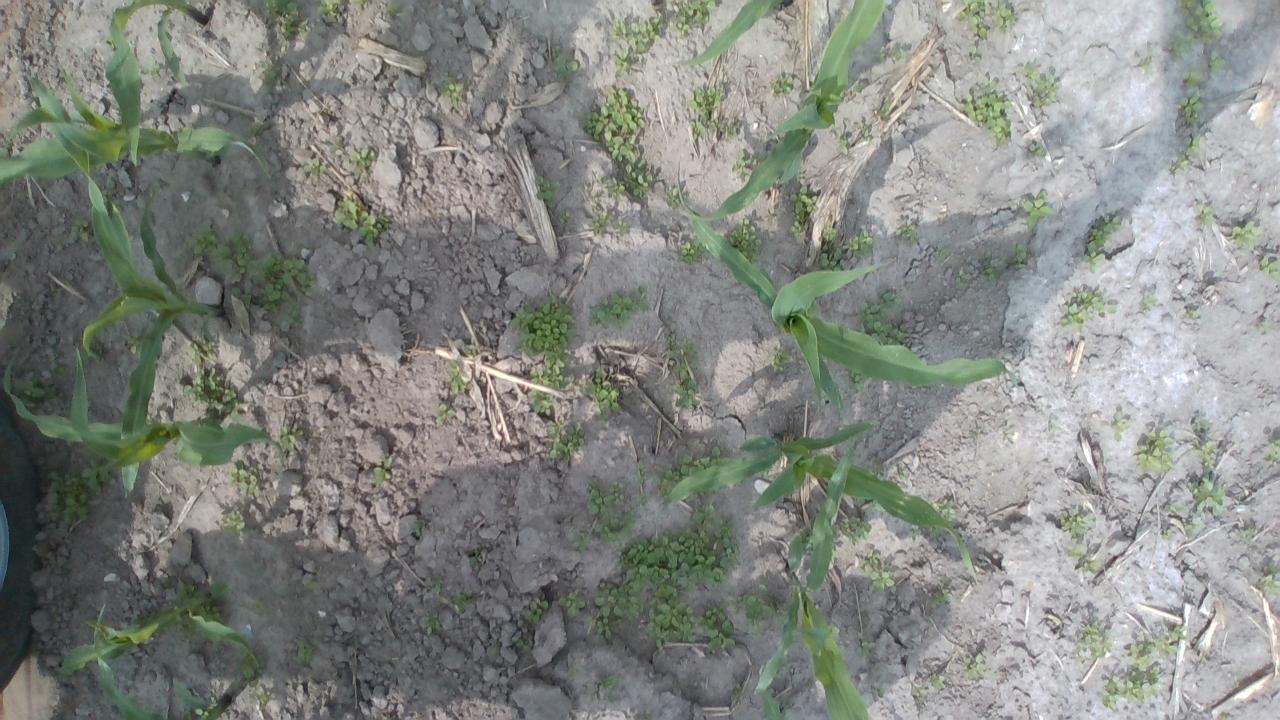Maize: (674, 162, 1016, 420), (28, 72, 226, 506), (666, 416, 974, 582), (684, 0, 891, 225), (0, 347, 292, 476), (752, 443, 872, 720), (0, 68, 274, 182), (60, 590, 262, 680), (105, 0, 208, 168), (94, 651, 250, 720), (672, 0, 792, 68), (758, 684, 786, 720)
Weeds: (183, 217, 317, 336), (617, 500, 741, 594), (510, 292, 576, 369), (41, 457, 112, 523), (8, 354, 70, 417), (576, 86, 648, 139), (611, 13, 666, 82), (585, 579, 644, 642), (960, 77, 1011, 146), (584, 478, 636, 542), (330, 198, 392, 250), (645, 596, 702, 652), (599, 139, 653, 197), (662, 335, 702, 408), (728, 584, 786, 634), (1078, 212, 1122, 274), (588, 286, 648, 331), (1104, 664, 1160, 712), (182, 369, 238, 416), (818, 225, 874, 271), (1122, 626, 1184, 664), (526, 368, 574, 416), (1059, 288, 1113, 330), (577, 368, 622, 416), (1177, 0, 1223, 45), (1135, 429, 1178, 474), (687, 84, 721, 140), (544, 419, 588, 462), (669, 0, 718, 38), (702, 600, 736, 652), (727, 219, 763, 266), (184, 316, 218, 364), (1021, 65, 1058, 107), (262, 0, 306, 35), (954, 0, 992, 40), (860, 550, 895, 592), (1189, 476, 1227, 514), (224, 461, 264, 496), (856, 300, 888, 341), (1056, 504, 1092, 538), (784, 185, 818, 221), (1076, 624, 1110, 656), (872, 320, 908, 350), (650, 464, 680, 499), (1022, 191, 1051, 227), (551, 44, 579, 80), (841, 514, 872, 546), (1229, 218, 1262, 248), (534, 174, 562, 206), (676, 238, 708, 266), (1192, 438, 1218, 472), (1166, 29, 1195, 59), (163, 614, 194, 642), (1176, 94, 1204, 125), (592, 211, 626, 236), (217, 509, 246, 538), (990, 0, 1016, 32), (522, 595, 548, 627), (445, 360, 467, 396), (558, 590, 586, 618), (769, 344, 795, 374), (678, 452, 710, 476), (601, 674, 626, 704), (275, 425, 305, 450), (371, 456, 396, 485), (442, 75, 464, 106), (1206, 48, 1226, 82), (729, 150, 753, 178), (348, 145, 376, 169), (294, 638, 320, 663), (1004, 241, 1026, 270), (934, 500, 958, 526), (1182, 63, 1206, 89), (1263, 564, 1280, 600), (878, 286, 902, 310), (1066, 538, 1089, 562), (1259, 256, 1280, 282), (964, 654, 985, 680), (197, 604, 224, 624), (422, 610, 442, 637), (575, 528, 594, 556), (1194, 200, 1216, 224), (70, 219, 92, 243), (664, 187, 688, 209), (123, 329, 143, 355), (928, 590, 954, 610), (847, 368, 867, 394), (256, 60, 282, 80), (316, 0, 343, 19), (831, 125, 849, 152), (1111, 419, 1133, 441), (434, 402, 456, 424), (772, 76, 794, 98), (894, 223, 918, 243), (1166, 154, 1190, 174), (856, 633, 874, 658), (1182, 132, 1200, 157), (303, 158, 327, 176), (90, 343, 108, 367), (1264, 438, 1280, 464), (452, 590, 472, 610), (467, 542, 482, 567), (1182, 519, 1204, 536), (1240, 526, 1258, 546), (212, 582, 234, 598), (1026, 142, 1046, 159), (953, 270, 971, 288), (426, 576, 444, 594), (512, 635, 530, 653), (891, 44, 908, 63), (302, 580, 322, 596), (788, 221, 804, 241), (186, 575, 200, 597), (408, 518, 426, 535), (1136, 56, 1152, 75), (1082, 560, 1102, 575), (100, 174, 114, 195), (964, 44, 981, 61), (980, 266, 996, 284), (870, 48, 886, 66), (256, 686, 270, 706), (1162, 501, 1184, 513), (556, 208, 572, 224), (1140, 296, 1158, 310), (636, 464, 648, 483), (850, 79, 865, 94), (877, 103, 891, 119), (932, 673, 946, 689), (860, 126, 874, 142), (100, 34, 114, 50), (871, 499, 886, 513), (330, 136, 344, 151), (870, 686, 886, 699), (710, 446, 722, 463), (913, 686, 928, 699), (724, 125, 740, 137), (253, 598, 266, 612), (194, 708, 209, 720), (142, 64, 160, 74), (149, 190, 159, 208), (934, 245, 946, 260), (1184, 308, 1198, 320), (929, 526, 943, 537), (244, 126, 258, 136), (872, 470, 884, 481), (1198, 419, 1210, 430), (352, 0, 368, 8), (640, 711, 654, 720), (464, 348, 478, 357), (639, 492, 650, 503), (910, 524, 920, 536), (732, 687, 742, 699), (390, 3, 400, 15), (898, 470, 907, 480), (1162, 530, 1172, 538), (382, 714, 394, 720)
